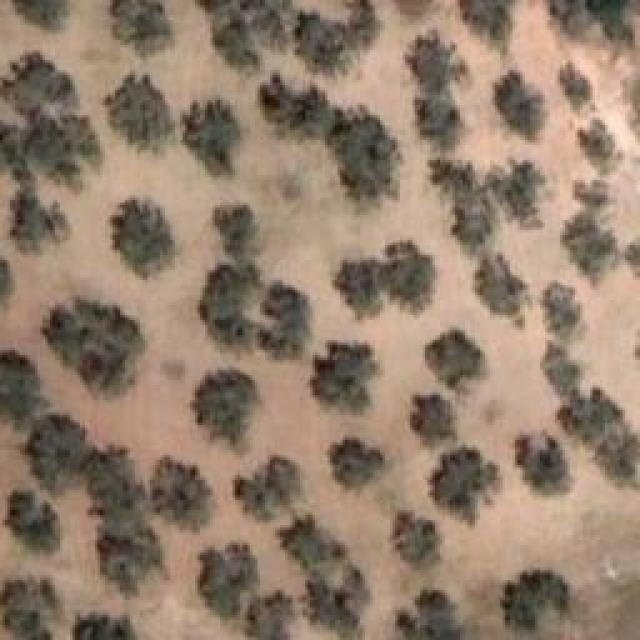Tree: (43, 298, 144, 395), (330, 113, 401, 199), (430, 448, 499, 525), (105, 75, 173, 152), (0, 53, 78, 119), (25, 415, 91, 492), (113, 197, 176, 277), (193, 370, 259, 446), (265, 73, 337, 142), (90, 445, 150, 525), (313, 342, 378, 412), (200, 545, 260, 620), (310, 565, 370, 640), (150, 458, 210, 531), (200, 265, 254, 346), (235, 455, 301, 520), (95, 528, 165, 589), (183, 100, 238, 176), (258, 283, 311, 359), (485, 160, 545, 227), (10, 183, 69, 251), (0, 353, 49, 430), (505, 570, 570, 628), (560, 385, 623, 442), (278, 515, 347, 567), (425, 328, 483, 389), (385, 243, 433, 316), (515, 433, 570, 495), (563, 213, 614, 279), (495, 73, 545, 140), (295, 13, 349, 75), (475, 255, 528, 317), (415, 88, 467, 151), (113, 0, 171, 56), (398, 590, 462, 640), (5, 582, 60, 640), (445, 190, 495, 253), (210, 203, 267, 258), (405, 33, 464, 86), (337, 258, 384, 324), (8, 492, 59, 552), (330, 437, 385, 487), (215, 10, 260, 68), (23, 118, 72, 171), (578, 120, 623, 175), (540, 277, 582, 334), (393, 513, 439, 565), (425, 155, 482, 195), (597, 429, 640, 482), (460, 0, 515, 41), (543, 342, 583, 397), (245, 595, 292, 640), (413, 395, 457, 443), (73, 612, 137, 640), (560, 63, 593, 110), (13, 0, 66, 27), (573, 180, 614, 209)
